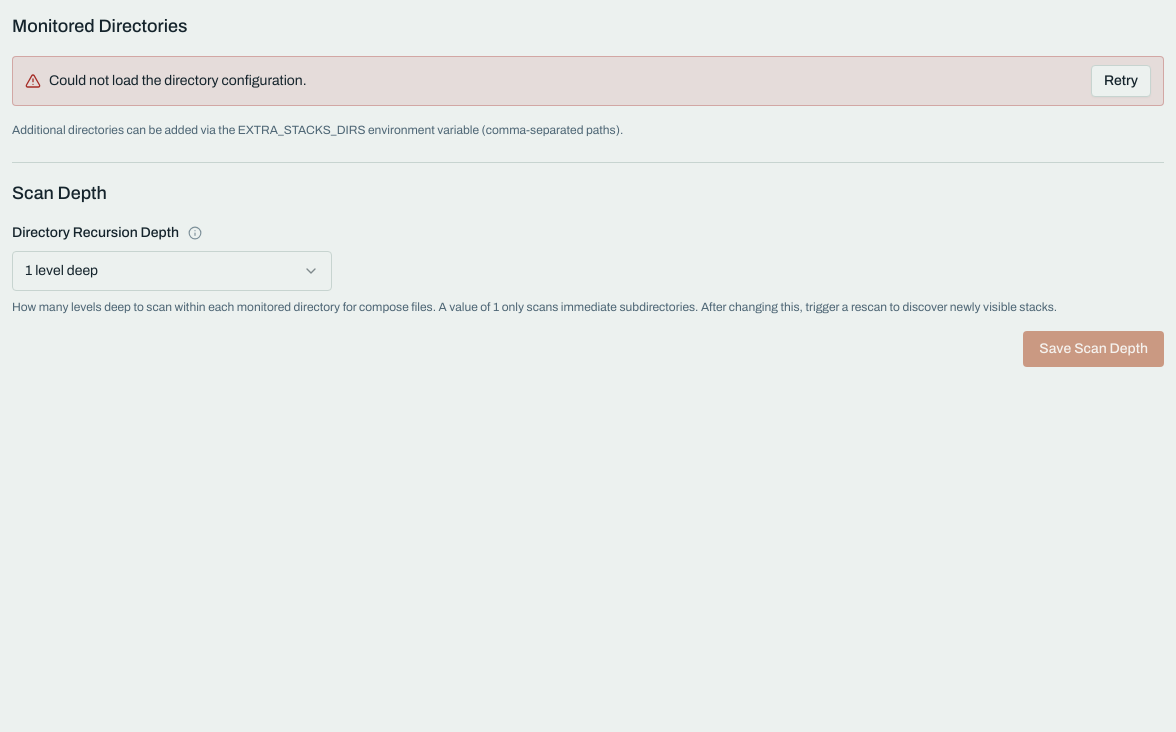
Test: DirectoriesSettingsContent — a failed FIRST load fabricates nothing (agent-os-gs2y) › config fails first: an error, not "No directories configured"
This screenshot has width=1176, height=732.
expect the text "1 level deep" is shown: met, box top-left (25, 261), bottom-right (98, 281)
expect the text "Could not load the directory configuration." is shown: met, box top-left (49, 71), bottom-right (307, 91)
Click the button "Retry".
click(1121, 81)  # box top-left (1091, 65), bottom-right (1151, 97)
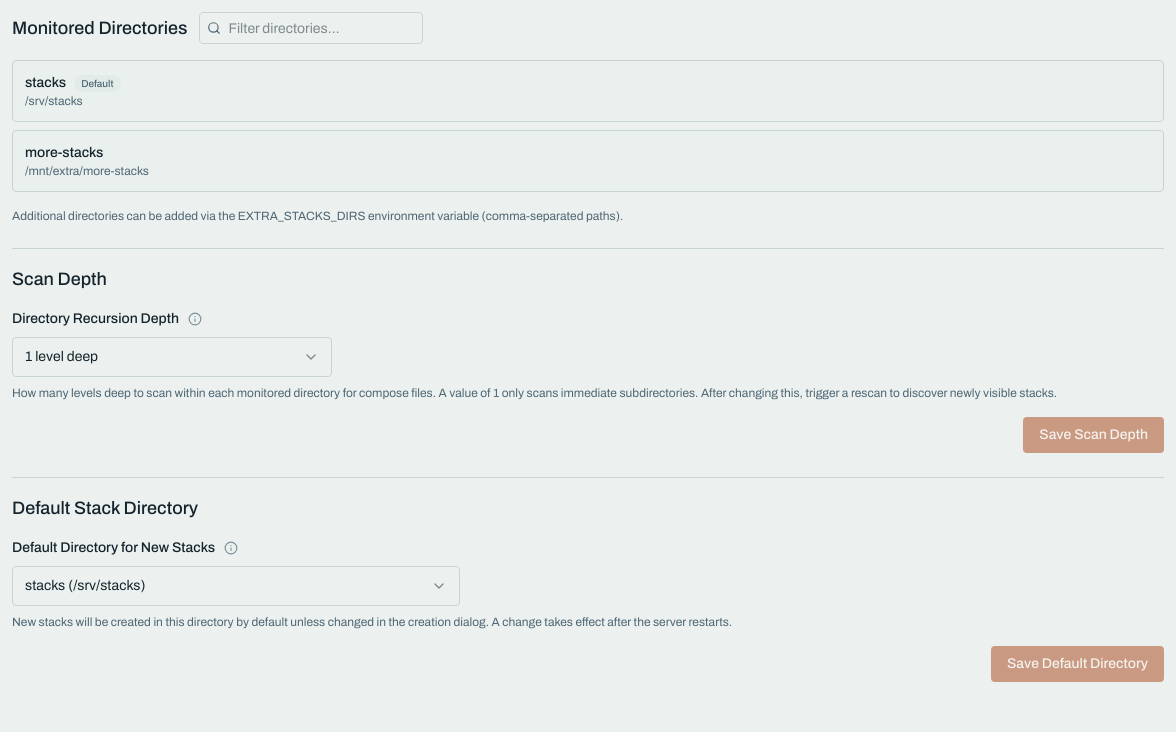
expect the text "/mnt/extra/more-stacks" is shown: met, box top-left (25, 164), bottom-right (149, 178)
expect the text "Could not load the directory configuration." is gone: met
